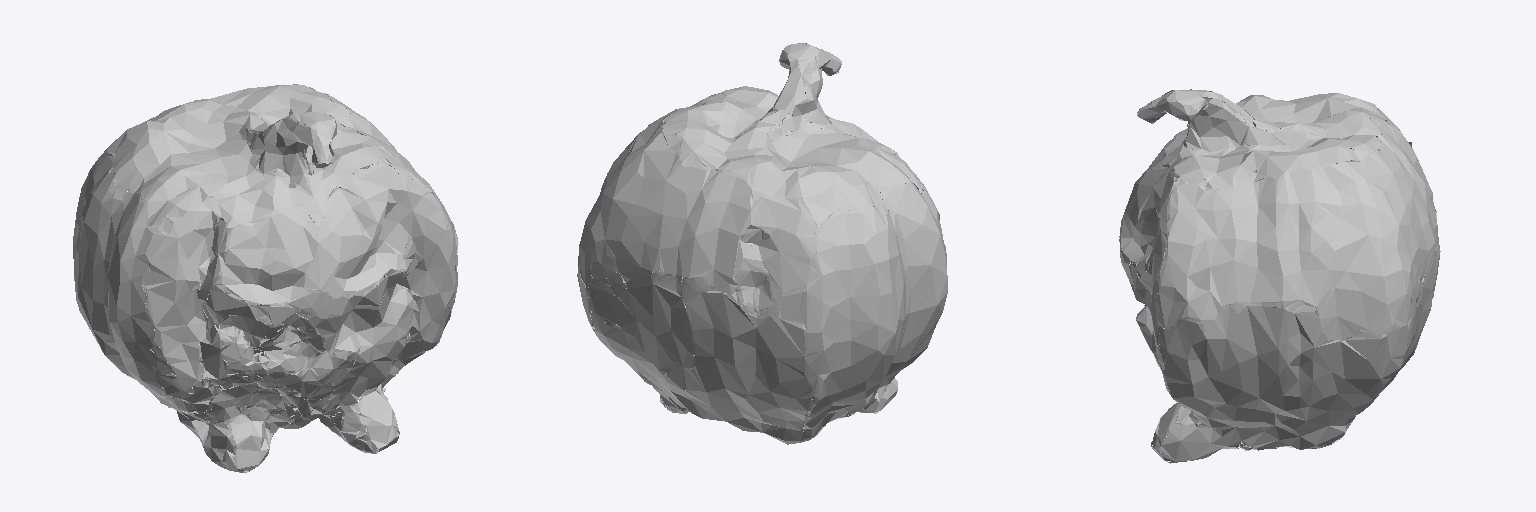
Rendered from calabaza4.obj.
3 renders of one model, left to right at view 1: azimuth 30°, elevation 25°; view 2: azimuth 150°, elevation 25°; view 3: azimuth 270°, elevation 25°, orthographic.
Parts seen in each view (by area): view 1: calabaza; view 2: calabaza; view 3: calabaza.
Part boxes in pixels (x1,y1,x2,y2): calabaza: (73, 84, 458, 472); calabaza: (577, 43, 947, 444); calabaza: (1119, 89, 1440, 463).
Size of the model in its own units: 1.68 by 1.71 by 1.46.